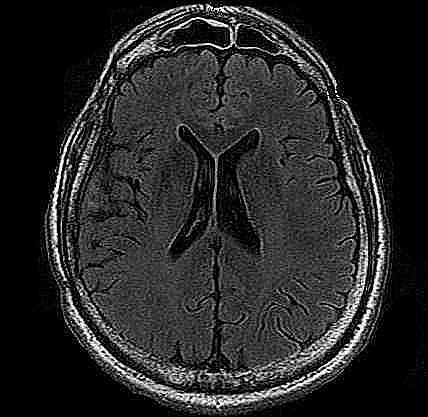Normal_Brain: (1, 3, 428, 417)
